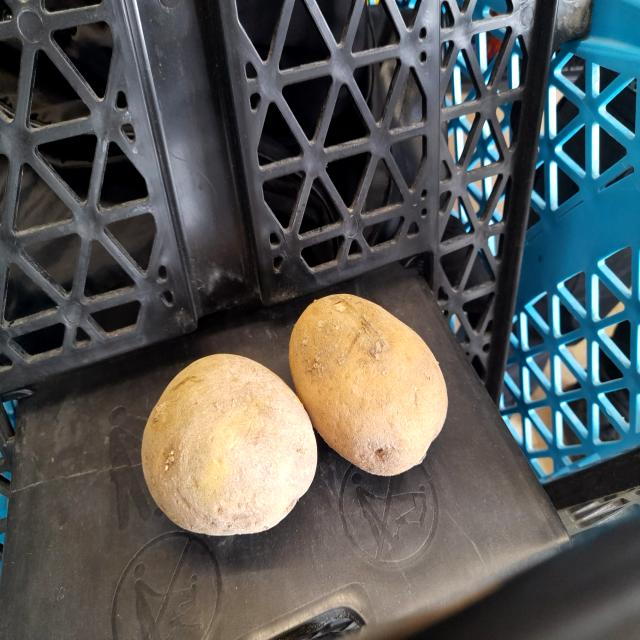potato: (134, 339, 332, 547), (280, 272, 455, 484)
